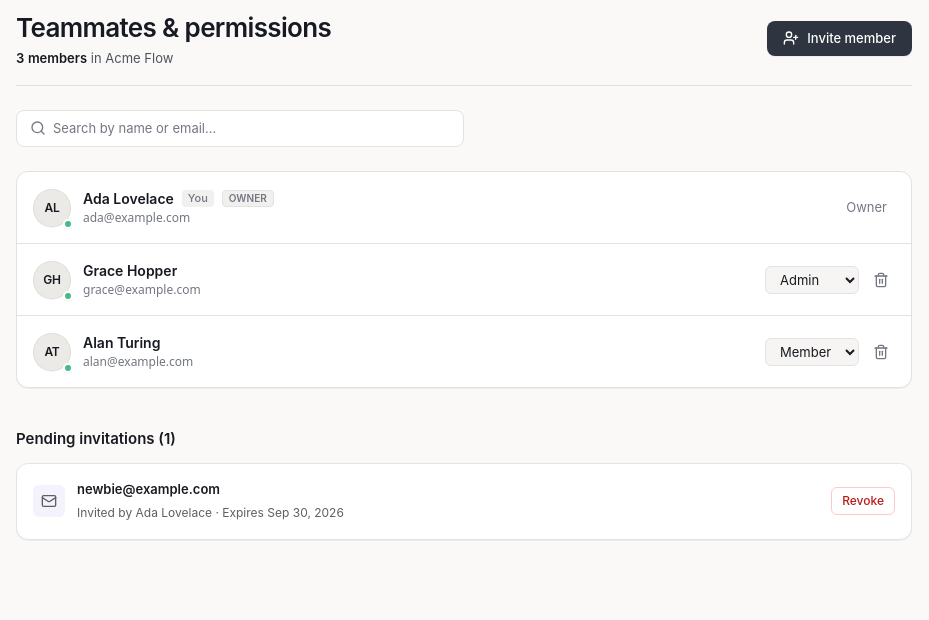
Test: SettingsMembersView › surfaces role update errors without changing the list
Select "Admin" in the dropdown named "Role for Alan Turing" at (812, 352), box [765, 338, 859, 366]
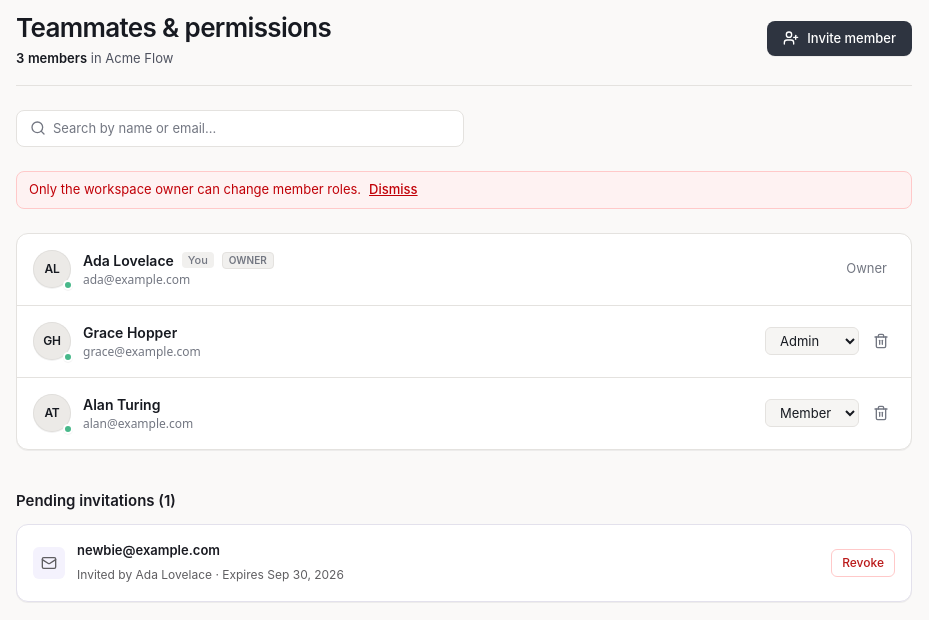
Check: the message shows "Only the workspace owner can change member roles", box [29, 181, 361, 197]
